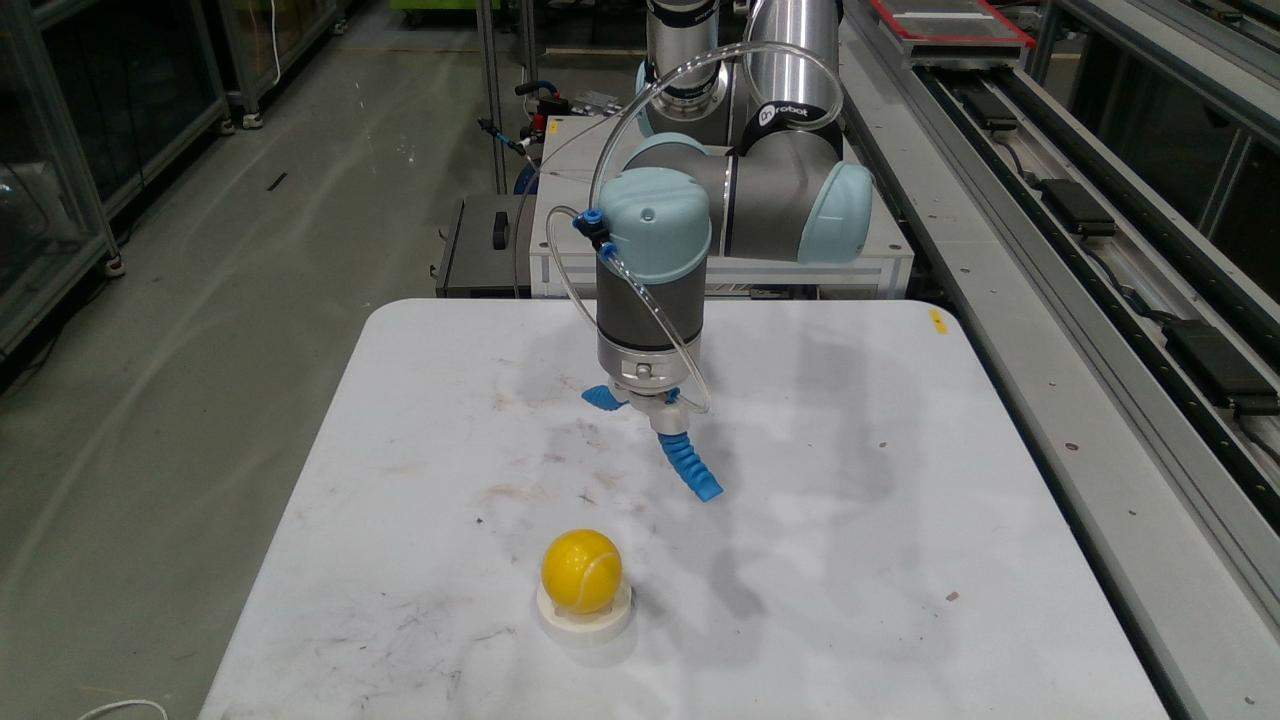UR5: (596, 0, 873, 435)
gripper_left: (582, 384, 628, 411)
gripper_right: (658, 432, 722, 501)
target: (541, 528, 623, 616), (534, 582, 635, 646)
